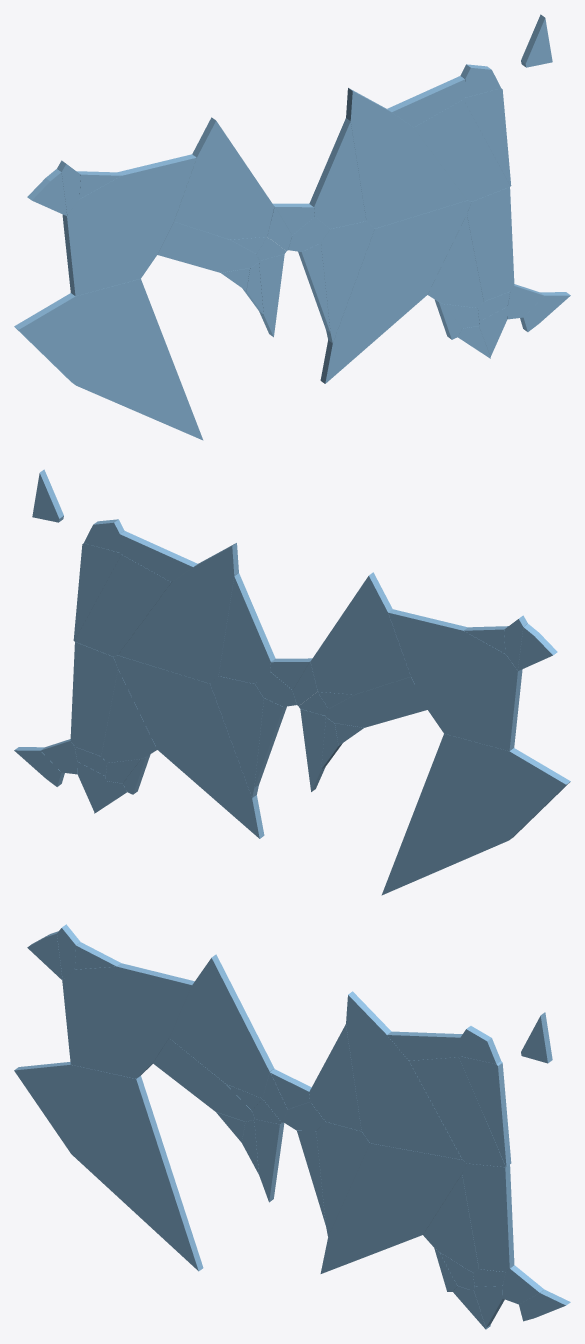
File: broken glass thing2.glb
3 views of the same model, one above another, from view 1: azimuth 30°, elevation 25°; view 2: azimuth 150°, elevation 25°; view 3: azimuth 330°, elevation 25° (orthographic).
Visible parts, largest first — view 1: Cube_cell.038, Cube_cell.008, Cube_cell.053, Cube_cell.067, Cube_cell.070, Cube_cell.001, Cube_cell.026, Cube_cell, Cube_cell.024, Cube_cell.027, Cube_cell.012, Cube_cell.002 (+16 smaller); view 2: Cube_cell.038, Cube_cell.008, Cube_cell.053, Cube_cell.067, Cube_cell.070, Cube_cell.001, Cube_cell.026, Cube_cell, Cube_cell.024, Cube_cell.027, Cube_cell.012, Cube_cell.002 (+16 smaller); view 3: Cube_cell.038, Cube_cell.008, Cube_cell.053, Cube_cell.067, Cube_cell.070, Cube_cell.001, Cube_cell.026, Cube_cell.024, Cube_cell, Cube_cell.027, Cube_cell.012, Cube_cell.002 (+18 smaller).
Part boxes in pixels (x1,y1,x2,y2): Cube_cell.038: (14,278,203,440); Cube_cell.008: (62,154,196,296); Cube_cell.053: (320,200,471,383); Cube_cell.067: (346,88,466,228); Cube_cell.070: (174,117,274,239); Cube_cell.001: (413,99,510,201); Cube_cell.026: (467,187,514,301); Cube_cell: (309,118,366,228); Cube_cell.024: (321,221,374,342); Cube_cell.027: (157,222,259,272); Cube_cell.012: (427,214,483,307); Cube_cell.002: (463,88,511,186); Cube_cell.038: (381,733,570,895); Cube_cell.008: (388,609,522,751); Cube_cell.053: (113,655,264,838); Cube_cell.067: (118,543,238,683); Cube_cell.070: (310,572,410,694); Cube_cell.001: (74,554,171,656); Cube_cell.026: (70,642,117,756); Cube_cell: (218,573,275,683); Cube_cell.024: (210,676,263,797); Cube_cell.027: (325,676,427,727); Cube_cell.012: (101,669,157,762); Cube_cell.002: (73,543,121,641); Cube_cell.038: (14,1062,203,1271); Cube_cell.008: (62,963,194,1078); Cube_cell.053: (320,1143,466,1273); Cube_cell.067: (346,991,462,1159); Cube_cell.070: (169,954,274,1098); Cube_cell.001: (409,1057,505,1167); Cube_cell.026: (462,1163,514,1271); Cube_cell.024: (316,1122,369,1236); Cube_cell: (309,1024,361,1131); Cube_cell.027: (153,1038,254,1121); Cube_cell.012: (423,1174,478,1272); Cube_cell.002: (459,1056,511,1166).
Bounding box in the file's own units: 11.34 × 6.66 × 0.1679.
